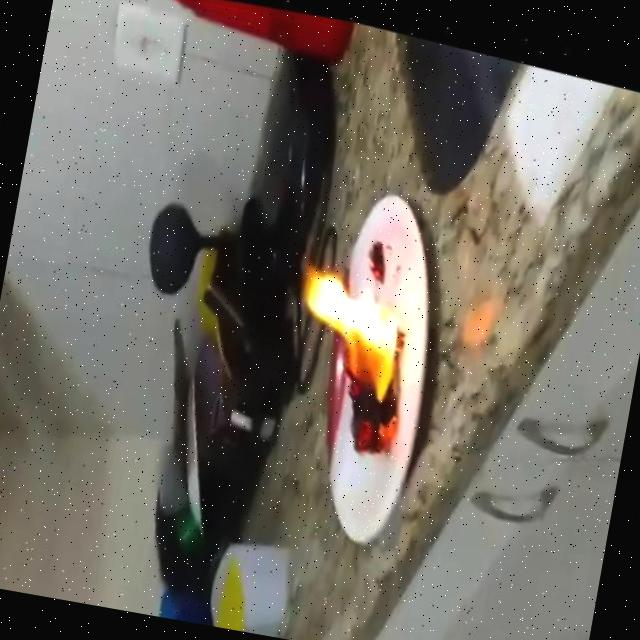fire: (263, 244, 429, 465)
